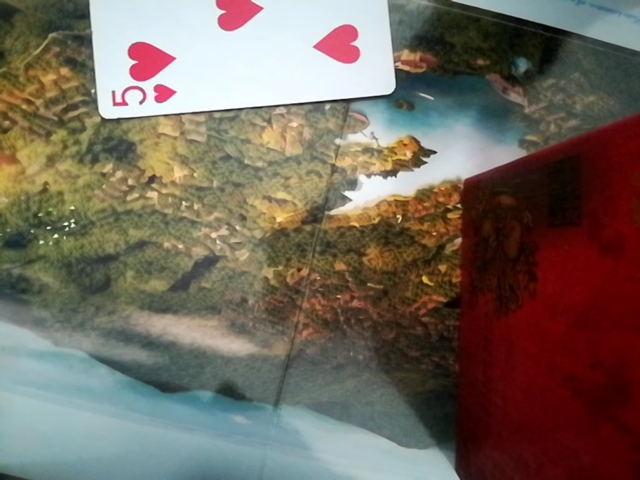hx 5: (84, 4, 398, 126)
